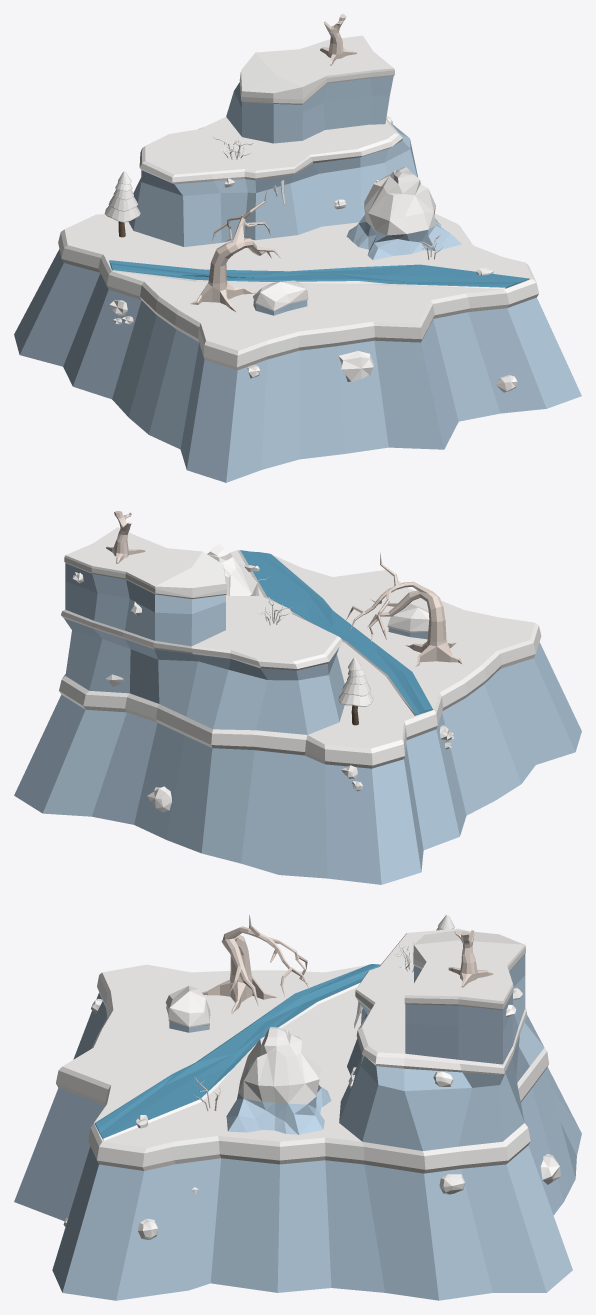
Rendered from Island_2.fbx.
3 renders of one model, top to bottom at view 1: azimuth 30°, elevation 25°; view 2: azimuth 150°, elevation 25°; view 3: azimuth 270°, elevation 25°, orthographic. The views are drawn at different scales.
Parts seen in each view (by area): view 1: Isl2_Base, Isl2_Snowdrift_2, Isl2_Stream, Isl2_Tree_1, Isl2_Snowdrift_1, Isl2_Tree_3, Isl2_Tree_2; view 2: Isl2_Base, Isl2_Stream, Isl2_Tree_1, Isl2_Snowdrift_2, Isl2_Tree_3, Isl2_Snowdrift_1, Isl2_Tree_2; view 3: Isl2_Base, Isl2_Snowdrift_2, Isl2_Stream, Isl2_Tree_1, Isl2_Snowdrift_1, Isl2_Tree_2.
Boxes of the visible parts, left/top/right/bottom form: Isl2_Base: left=14, top=35, right=581, bottom=482; Isl2_Snowdrift_2: left=346, top=167, right=461, bottom=260; Isl2_Stream: left=109, top=260, right=530, bottom=289; Isl2_Tree_1: left=190, top=189, right=280, bottom=312; Isl2_Snowdrift_1: left=253, top=280, right=308, bottom=315; Isl2_Tree_3: left=104, top=171, right=140, bottom=237; Isl2_Tree_2: left=320, top=14, right=356, bottom=65; Isl2_Base: left=14, top=527, right=581, bottom=884; Isl2_Stream: left=238, top=550, right=433, bottom=715; Isl2_Tree_1: left=346, top=552, right=462, bottom=666; Isl2_Snowdrift_2: left=207, top=544, right=259, bottom=595; Isl2_Tree_3: left=338, top=657, right=373, bottom=725; Isl2_Snowdrift_1: left=387, top=603, right=429, bottom=639; Isl2_Tree_2: left=106, top=511, right=145, bottom=563; Isl2_Base: left=14, top=928, right=581, bottom=1300; Isl2_Snowdrift_2: left=226, top=1027, right=331, bottom=1134; Isl2_Stream: left=94, top=964, right=380, bottom=1140; Isl2_Tree_1: left=202, top=915, right=309, bottom=1014; Isl2_Snowdrift_1: left=165, top=985, right=210, bottom=1032; Isl2_Tree_2: left=448, top=930, right=493, bottom=987.
Bounding box in the file's own units: 2165 × 2296 × 1430.
